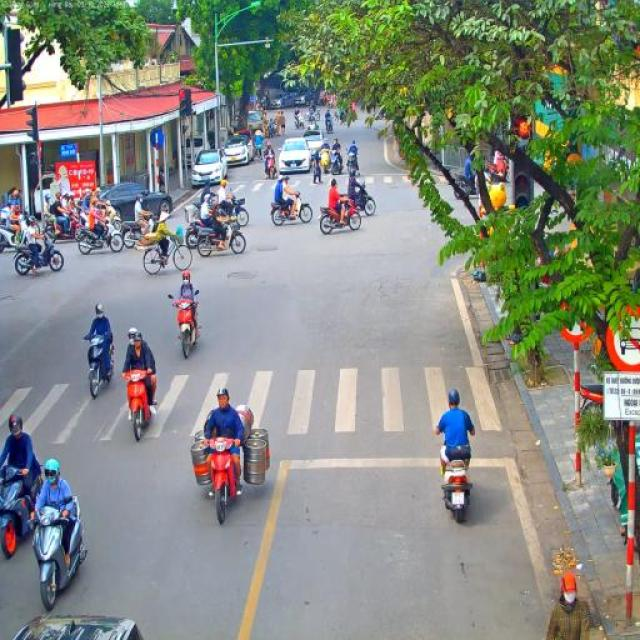car: (13, 614, 145, 640), (96, 181, 173, 223), (192, 148, 228, 192), (278, 136, 312, 174), (222, 136, 250, 170), (302, 129, 328, 155), (234, 130, 256, 158), (294, 88, 314, 103), (280, 92, 295, 108), (269, 96, 285, 110)
motorcycle: (31, 496, 88, 610), (196, 430, 245, 526), (0, 463, 42, 559), (438, 452, 473, 524), (123, 368, 156, 442), (607, 470, 640, 544), (168, 289, 201, 360), (12, 232, 64, 277), (83, 334, 116, 400), (198, 216, 247, 258), (318, 197, 364, 235), (76, 219, 124, 255), (570, 382, 604, 428), (184, 208, 221, 250), (269, 192, 313, 226), (121, 212, 158, 252), (216, 194, 250, 228), (0, 221, 32, 253), (347, 182, 377, 216), (44, 206, 74, 240), (97, 200, 123, 230), (65, 208, 85, 240), (198, 191, 218, 219), (484, 158, 505, 184), (264, 154, 278, 180), (346, 152, 360, 176), (330, 148, 342, 174), (319, 148, 330, 174), (252, 142, 262, 162), (307, 116, 319, 132), (268, 117, 276, 137), (306, 107, 316, 122), (294, 115, 304, 129), (326, 118, 333, 134)
truck: (243, 110, 263, 132)
